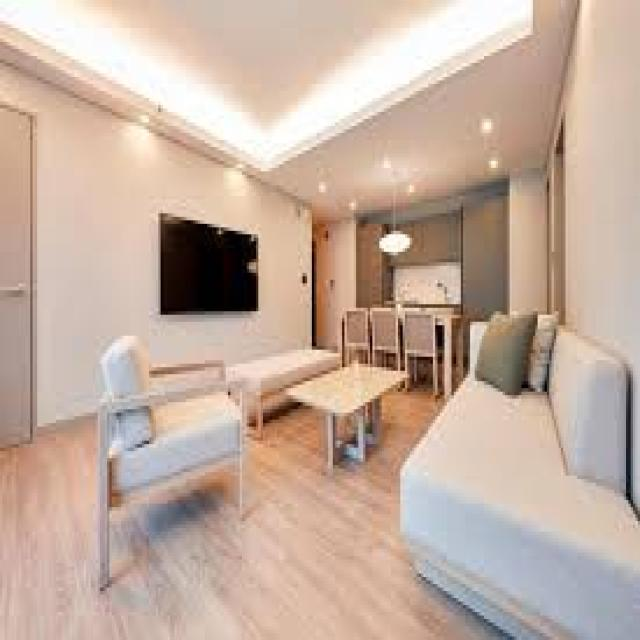Chair: (95, 334, 248, 592), (404, 306, 435, 389), (340, 306, 371, 363), (371, 304, 399, 362)
Sofa: (405, 315, 640, 640)
Table: (286, 364, 408, 477)
tv: (158, 212, 262, 315)
